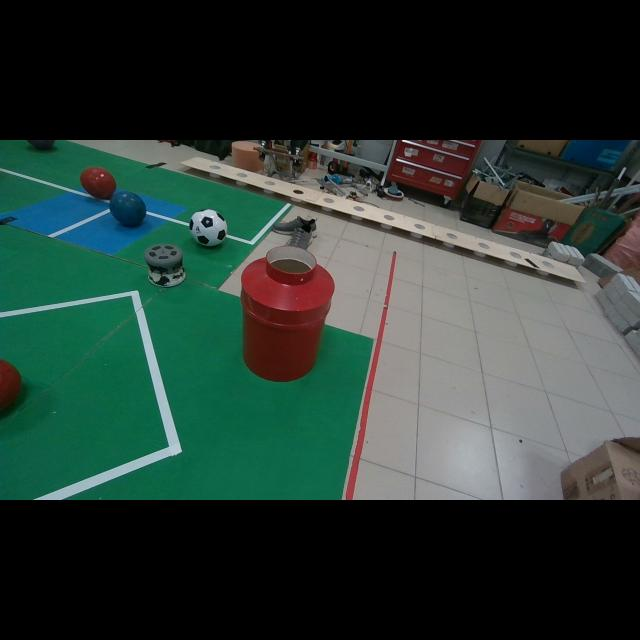B: (110, 191, 146, 228)
R: (80, 166, 116, 199), (0, 359, 21, 411)
